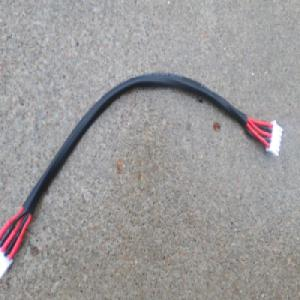Wire: (0, 72, 283, 285)
